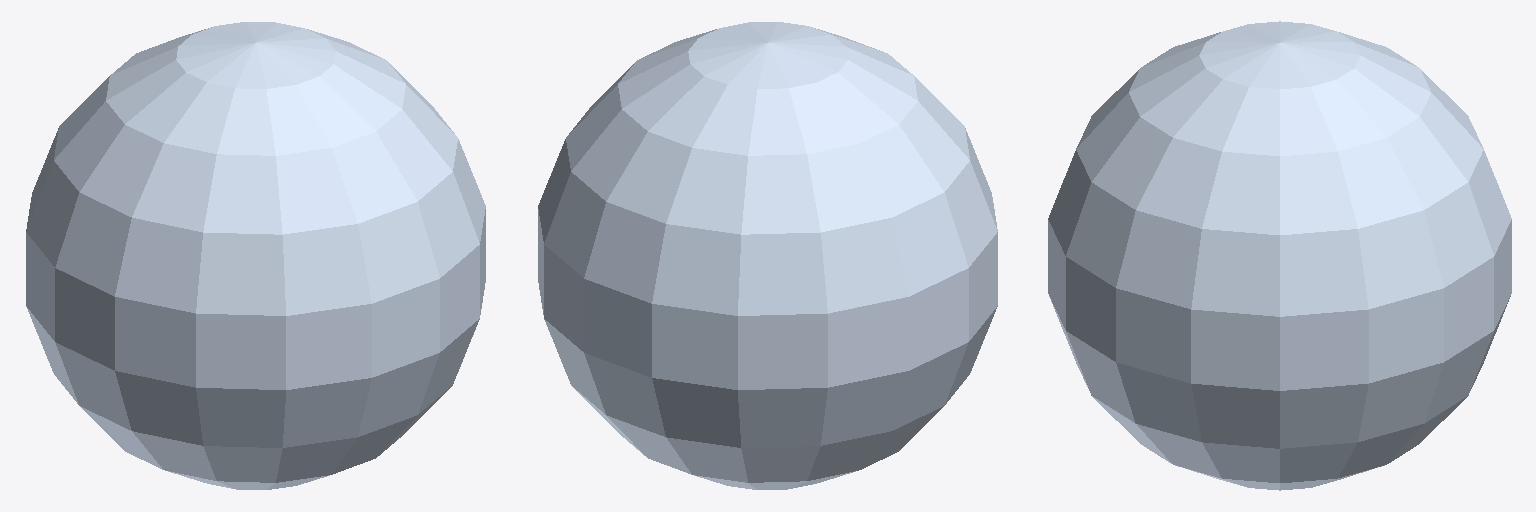
Rendered from marble-high.obj.
The picture shows the model from 3 angles: view 1: azimuth 30°, elevation 25°; view 2: azimuth 150°, elevation 25°; view 3: azimuth 270°, elevation 25°; orthographic projection.
Visible parts, largest first — view 1: (%ignore); view 2: (%ignore); view 3: (%ignore).
Part boxes in pixels (left/top/right/bottom): (%ignore): left=26, top=22, right=485, bottom=489; (%ignore): left=538, top=22, right=997, bottom=489; (%ignore): left=1048, top=21, right=1511, bottom=490.
Bounding box in the file's own units: 0.3939 × 0.4 × 0.3939.